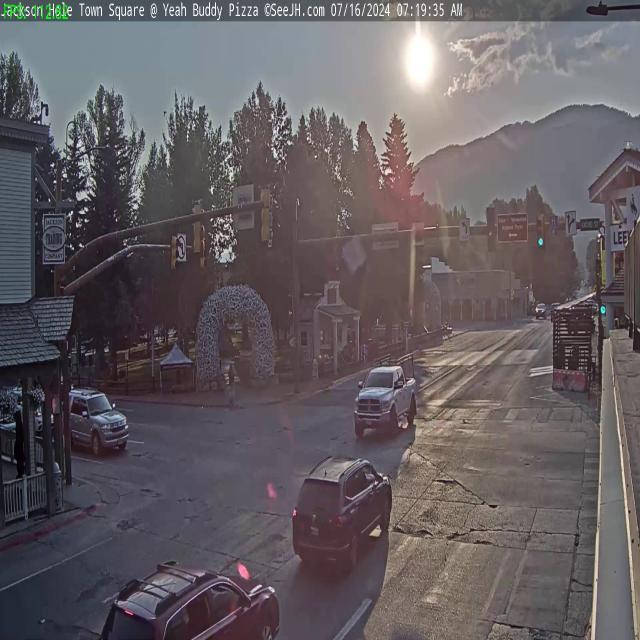pickup: (351, 360, 422, 441)
suv: (97, 554, 281, 640), (289, 450, 394, 583), (62, 390, 129, 458)
traffic light: (260, 184, 273, 244), (190, 199, 204, 254), (486, 208, 496, 252), (171, 229, 179, 279), (536, 214, 546, 248)
